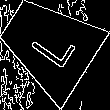L_NW: (20, 18, 77, 72)
